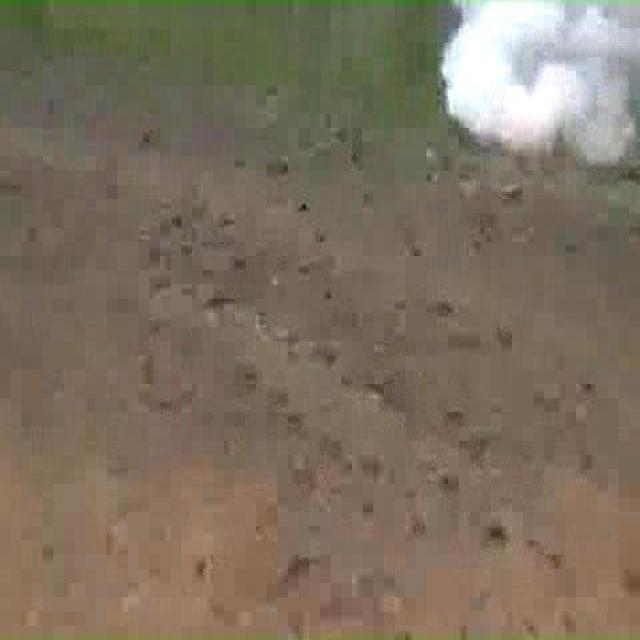Smoke: (437, 0, 640, 169)
